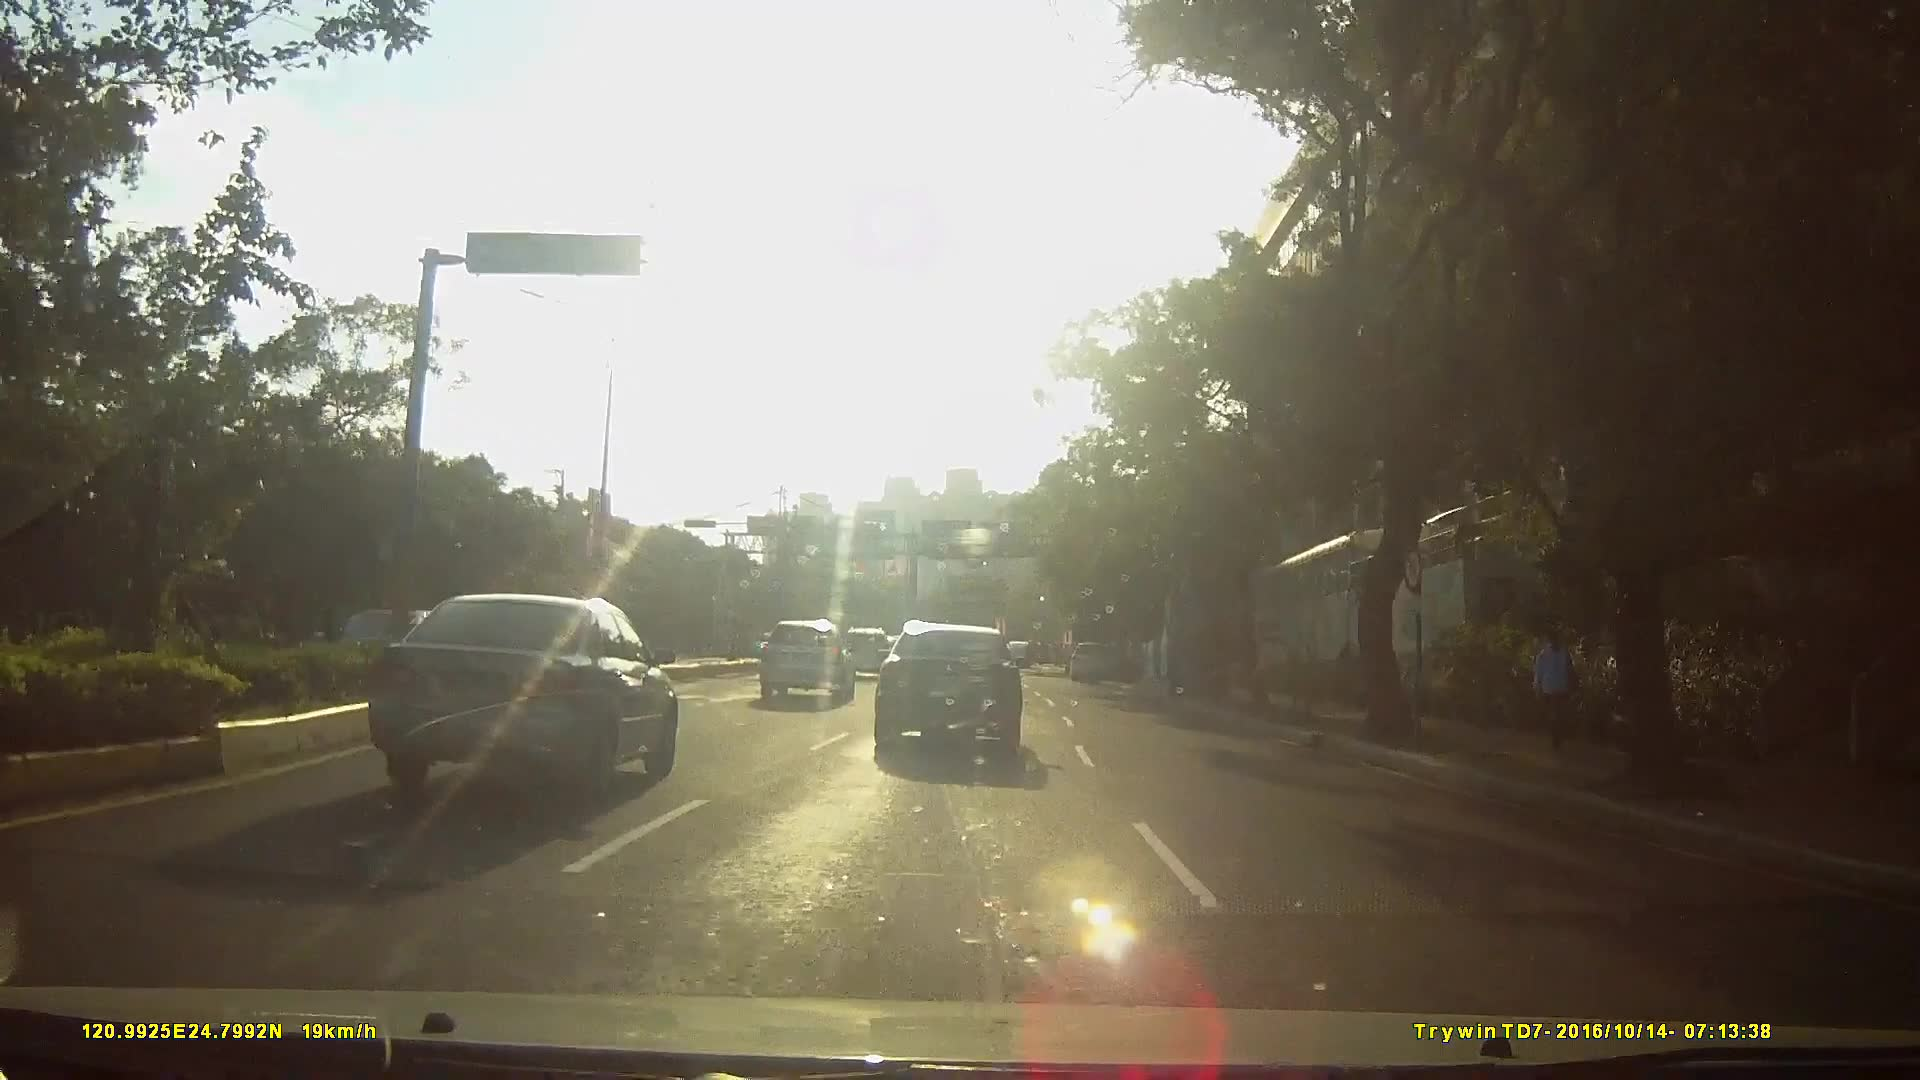pedestrian: (1530, 623, 1581, 748)
vehicle: (360, 582, 675, 794), (868, 615, 1040, 758), (755, 612, 855, 700), (838, 620, 892, 678), (1068, 632, 1118, 677), (743, 628, 786, 658)
